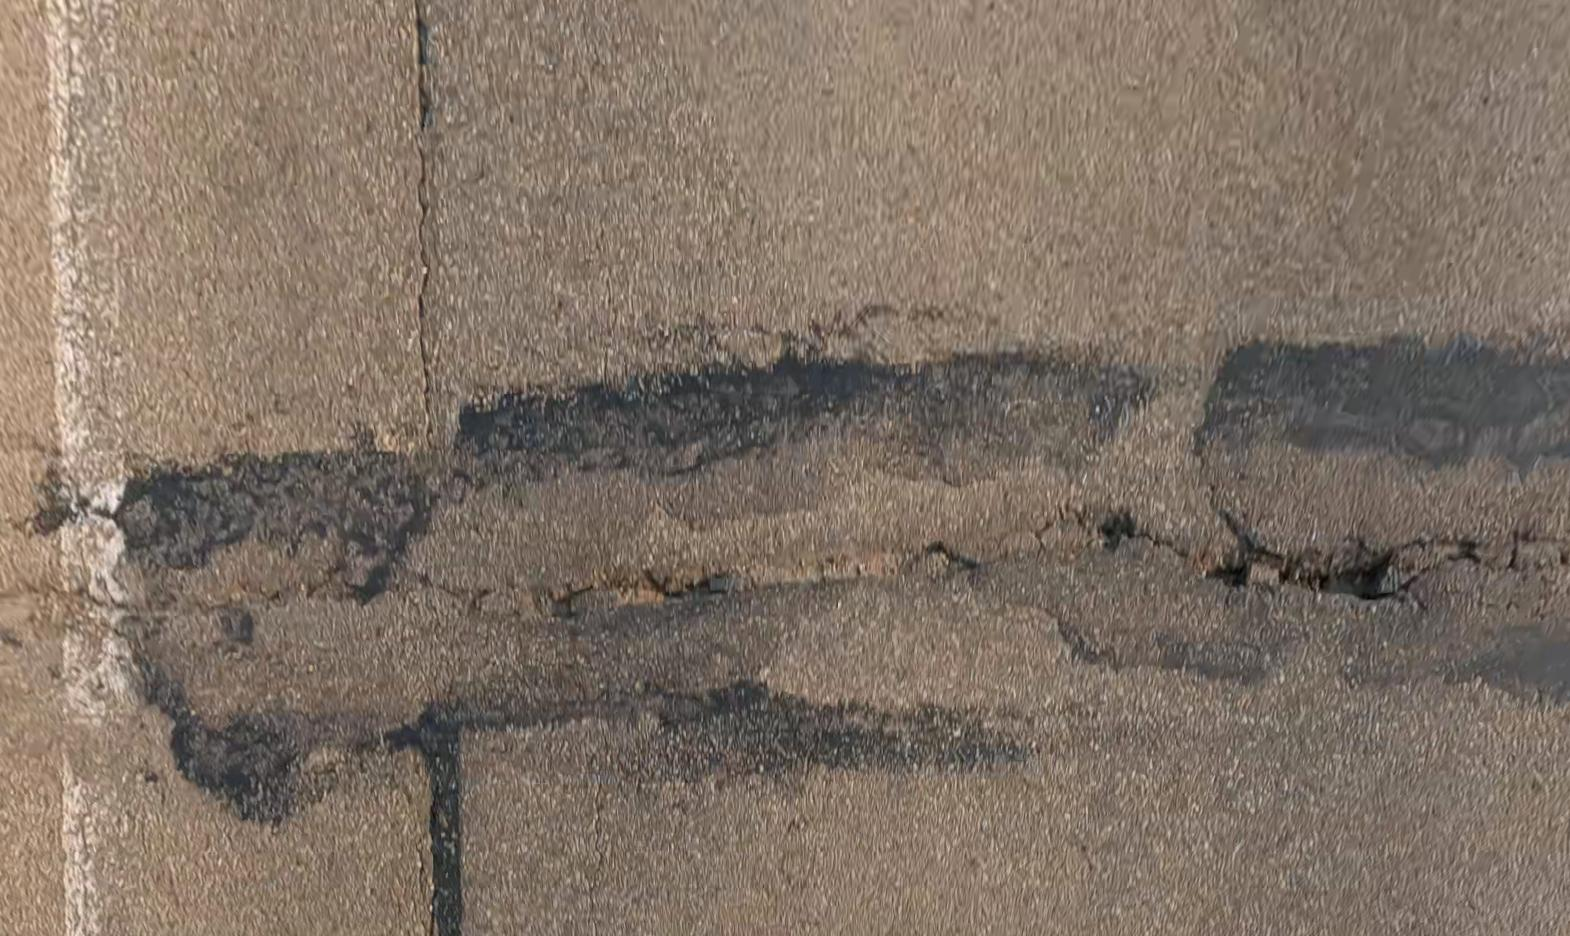pothole_patch_good: (104, 348, 1148, 586), (1205, 331, 1568, 476)
pothole_patch_poor: (128, 469, 1570, 811)
